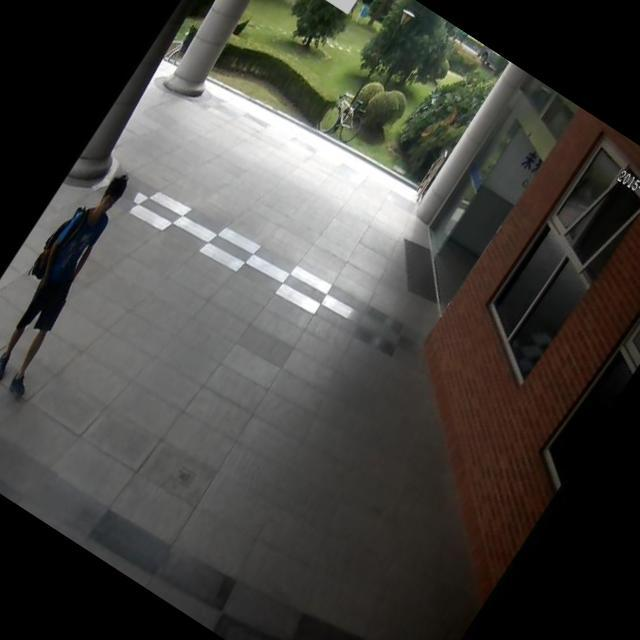person: (0, 157, 158, 408)
